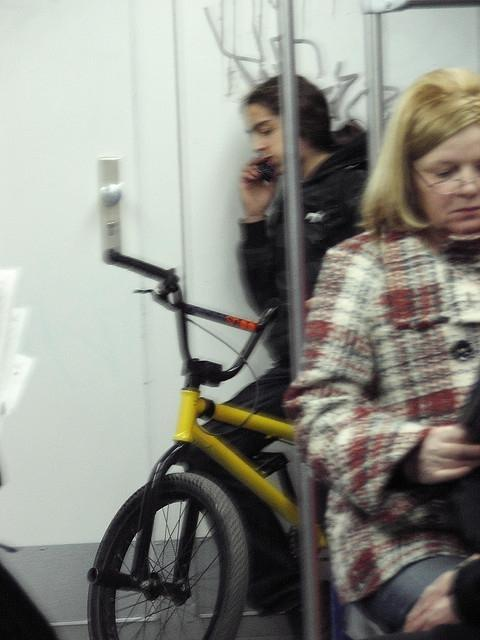bicycle: (86, 256, 322, 634)
